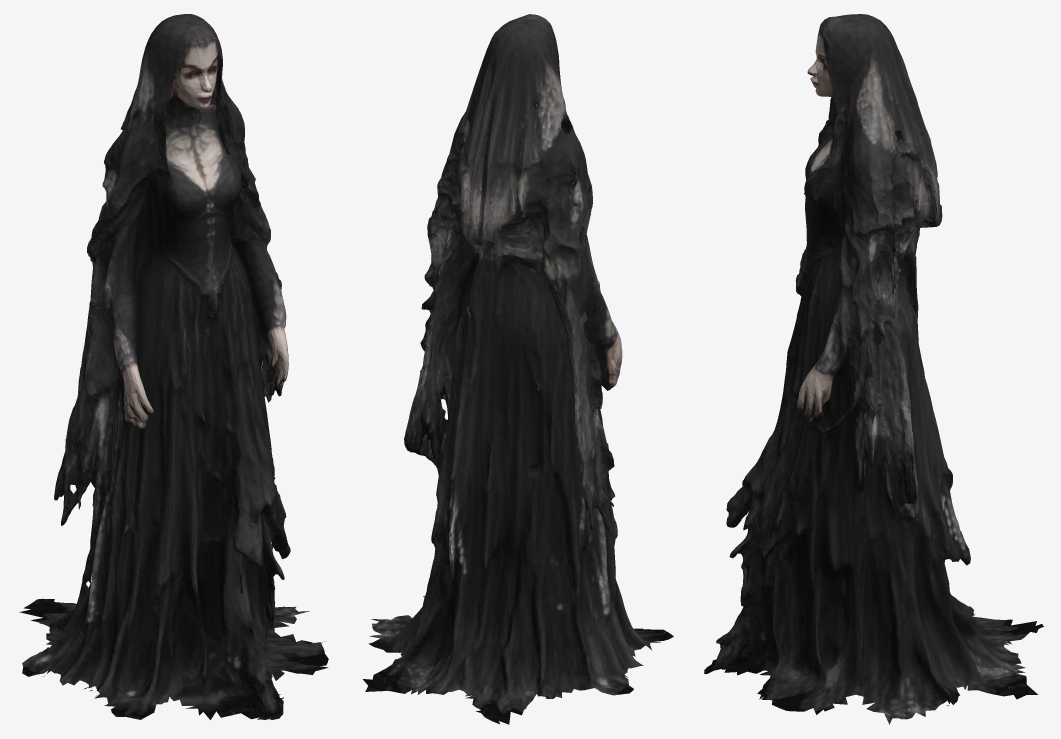
Rendered from enemy_widow_concept.glb.
3 views of the same model, side by side, from view 1: azimuth 30°, elevation 25°; view 2: azimuth 150°, elevation 25°; view 3: azimuth 270°, elevation 25° (orthographic). The views are drawn at different scales.
Parts seen in each view (by area): view 1: Widow; view 2: Widow; view 3: Widow.
Boxes of the visible parts, x1,y1,x2,y2 form: Widow: (19,14,328,719); Widow: (363,14,673,724); Widow: (704,14,1043,724).
Size of the model in its own units: 0.8296 by 1.8 by 0.8654.
1 material, 1 textured.
